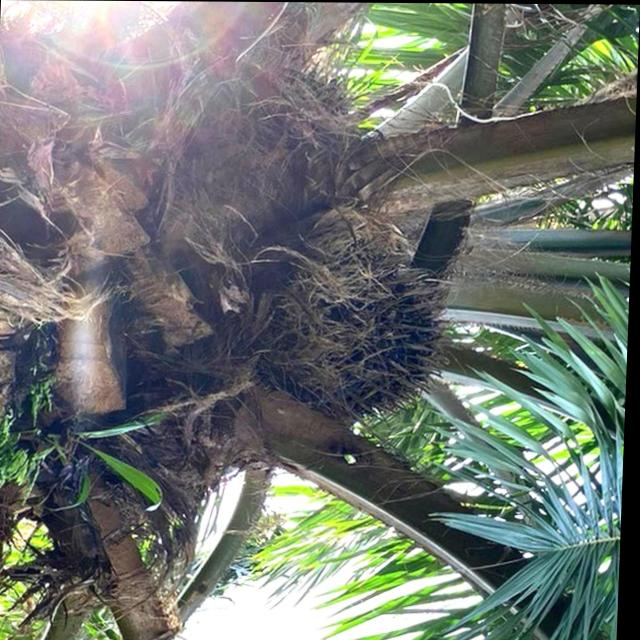unripe: (264, 252, 455, 418)
